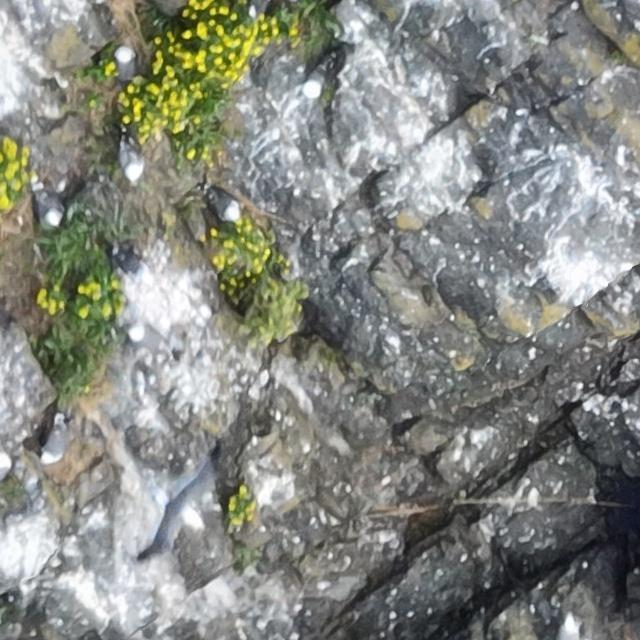F: (148, 456, 227, 555)
umineko: (298, 55, 338, 100), (37, 188, 64, 227), (43, 424, 69, 464), (208, 190, 243, 219), (120, 143, 142, 183), (132, 326, 170, 348), (115, 46, 136, 81), (559, 618, 578, 639), (249, 0, 273, 15), (0, 454, 8, 484)
